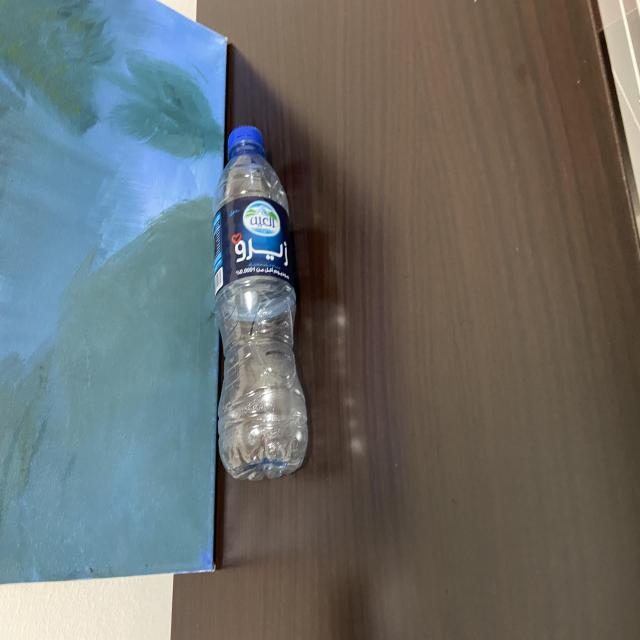plastic: (209, 121, 311, 484)
